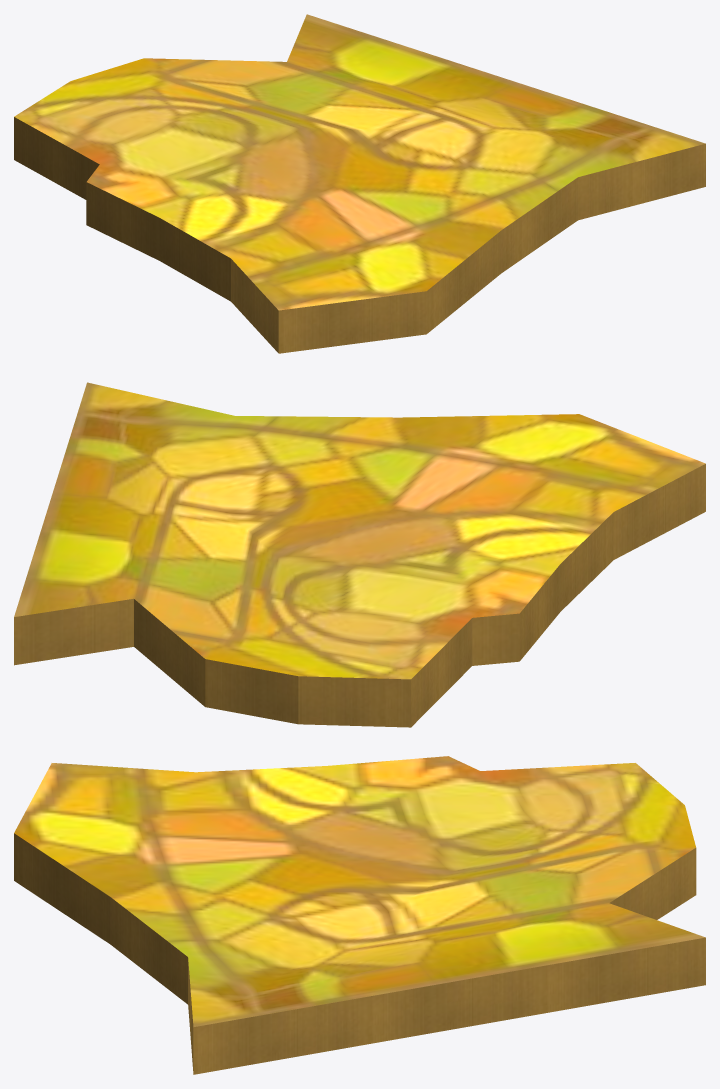
The model's file is lb_chunk_2_2.glb.
3 views of the same model, one above another, from view 1: azimuth 30°, elevation 25°; view 2: azimuth 150°, elevation 25°; view 3: azimuth 270°, elevation 25° (orthographic). The views are drawn at different scales.
Visible parts, largest first — view 1: lb_chunk_2_2; view 2: lb_chunk_2_2; view 3: lb_chunk_2_2.
Boxes of the visible parts, left/top/right/bottom form: lb_chunk_2_2: left=14, top=14, right=705, bottom=353; lb_chunk_2_2: left=14, top=382, right=705, bottom=727; lb_chunk_2_2: left=14, top=756, right=705, bottom=1074.
Size of the model in its own units: 4.39 by 0.36 by 4.74.
2 materials, 2 textured.
